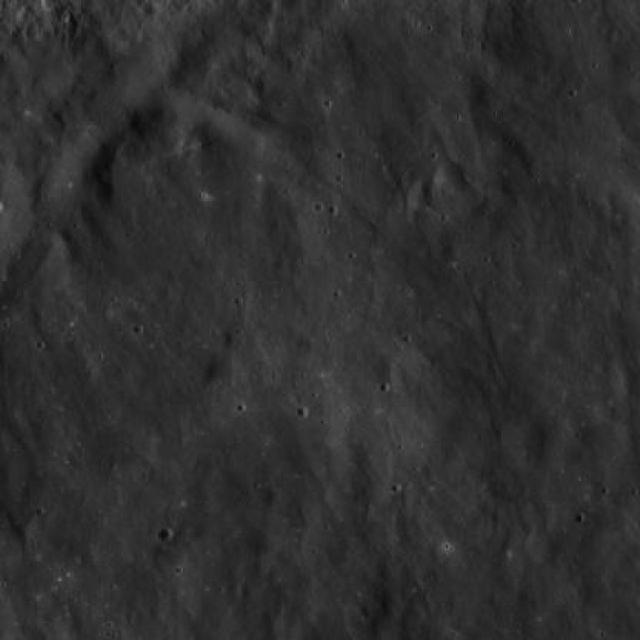crater: (89, 416, 154, 482), (143, 78, 203, 137), (243, 517, 285, 557), (207, 350, 246, 388), (0, 404, 26, 432), (261, 484, 281, 504), (159, 526, 176, 543)
